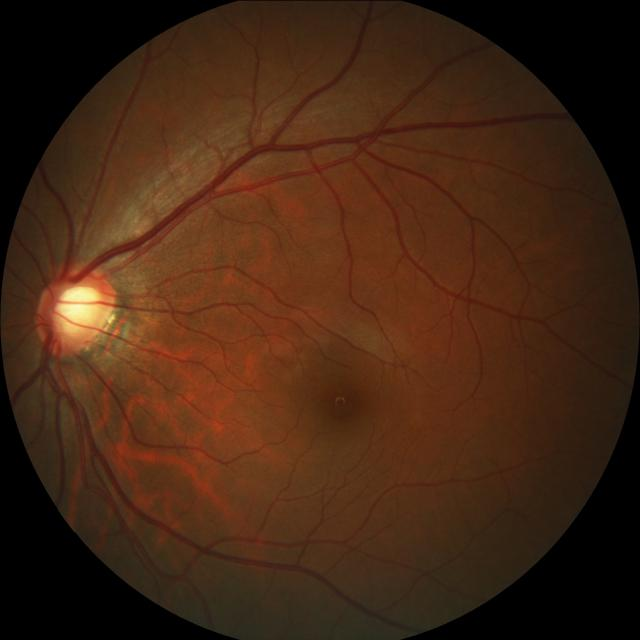OC: (52, 282, 101, 332)
OD: (38, 268, 120, 354)
